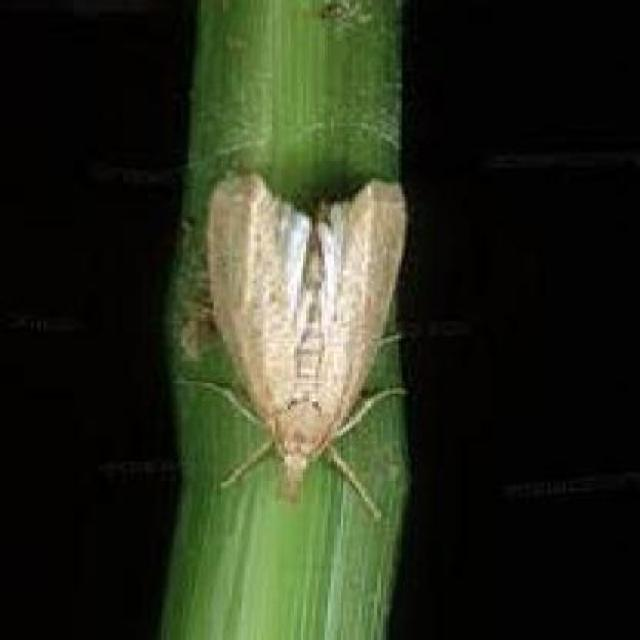stem-borer: (203, 168, 400, 502)
